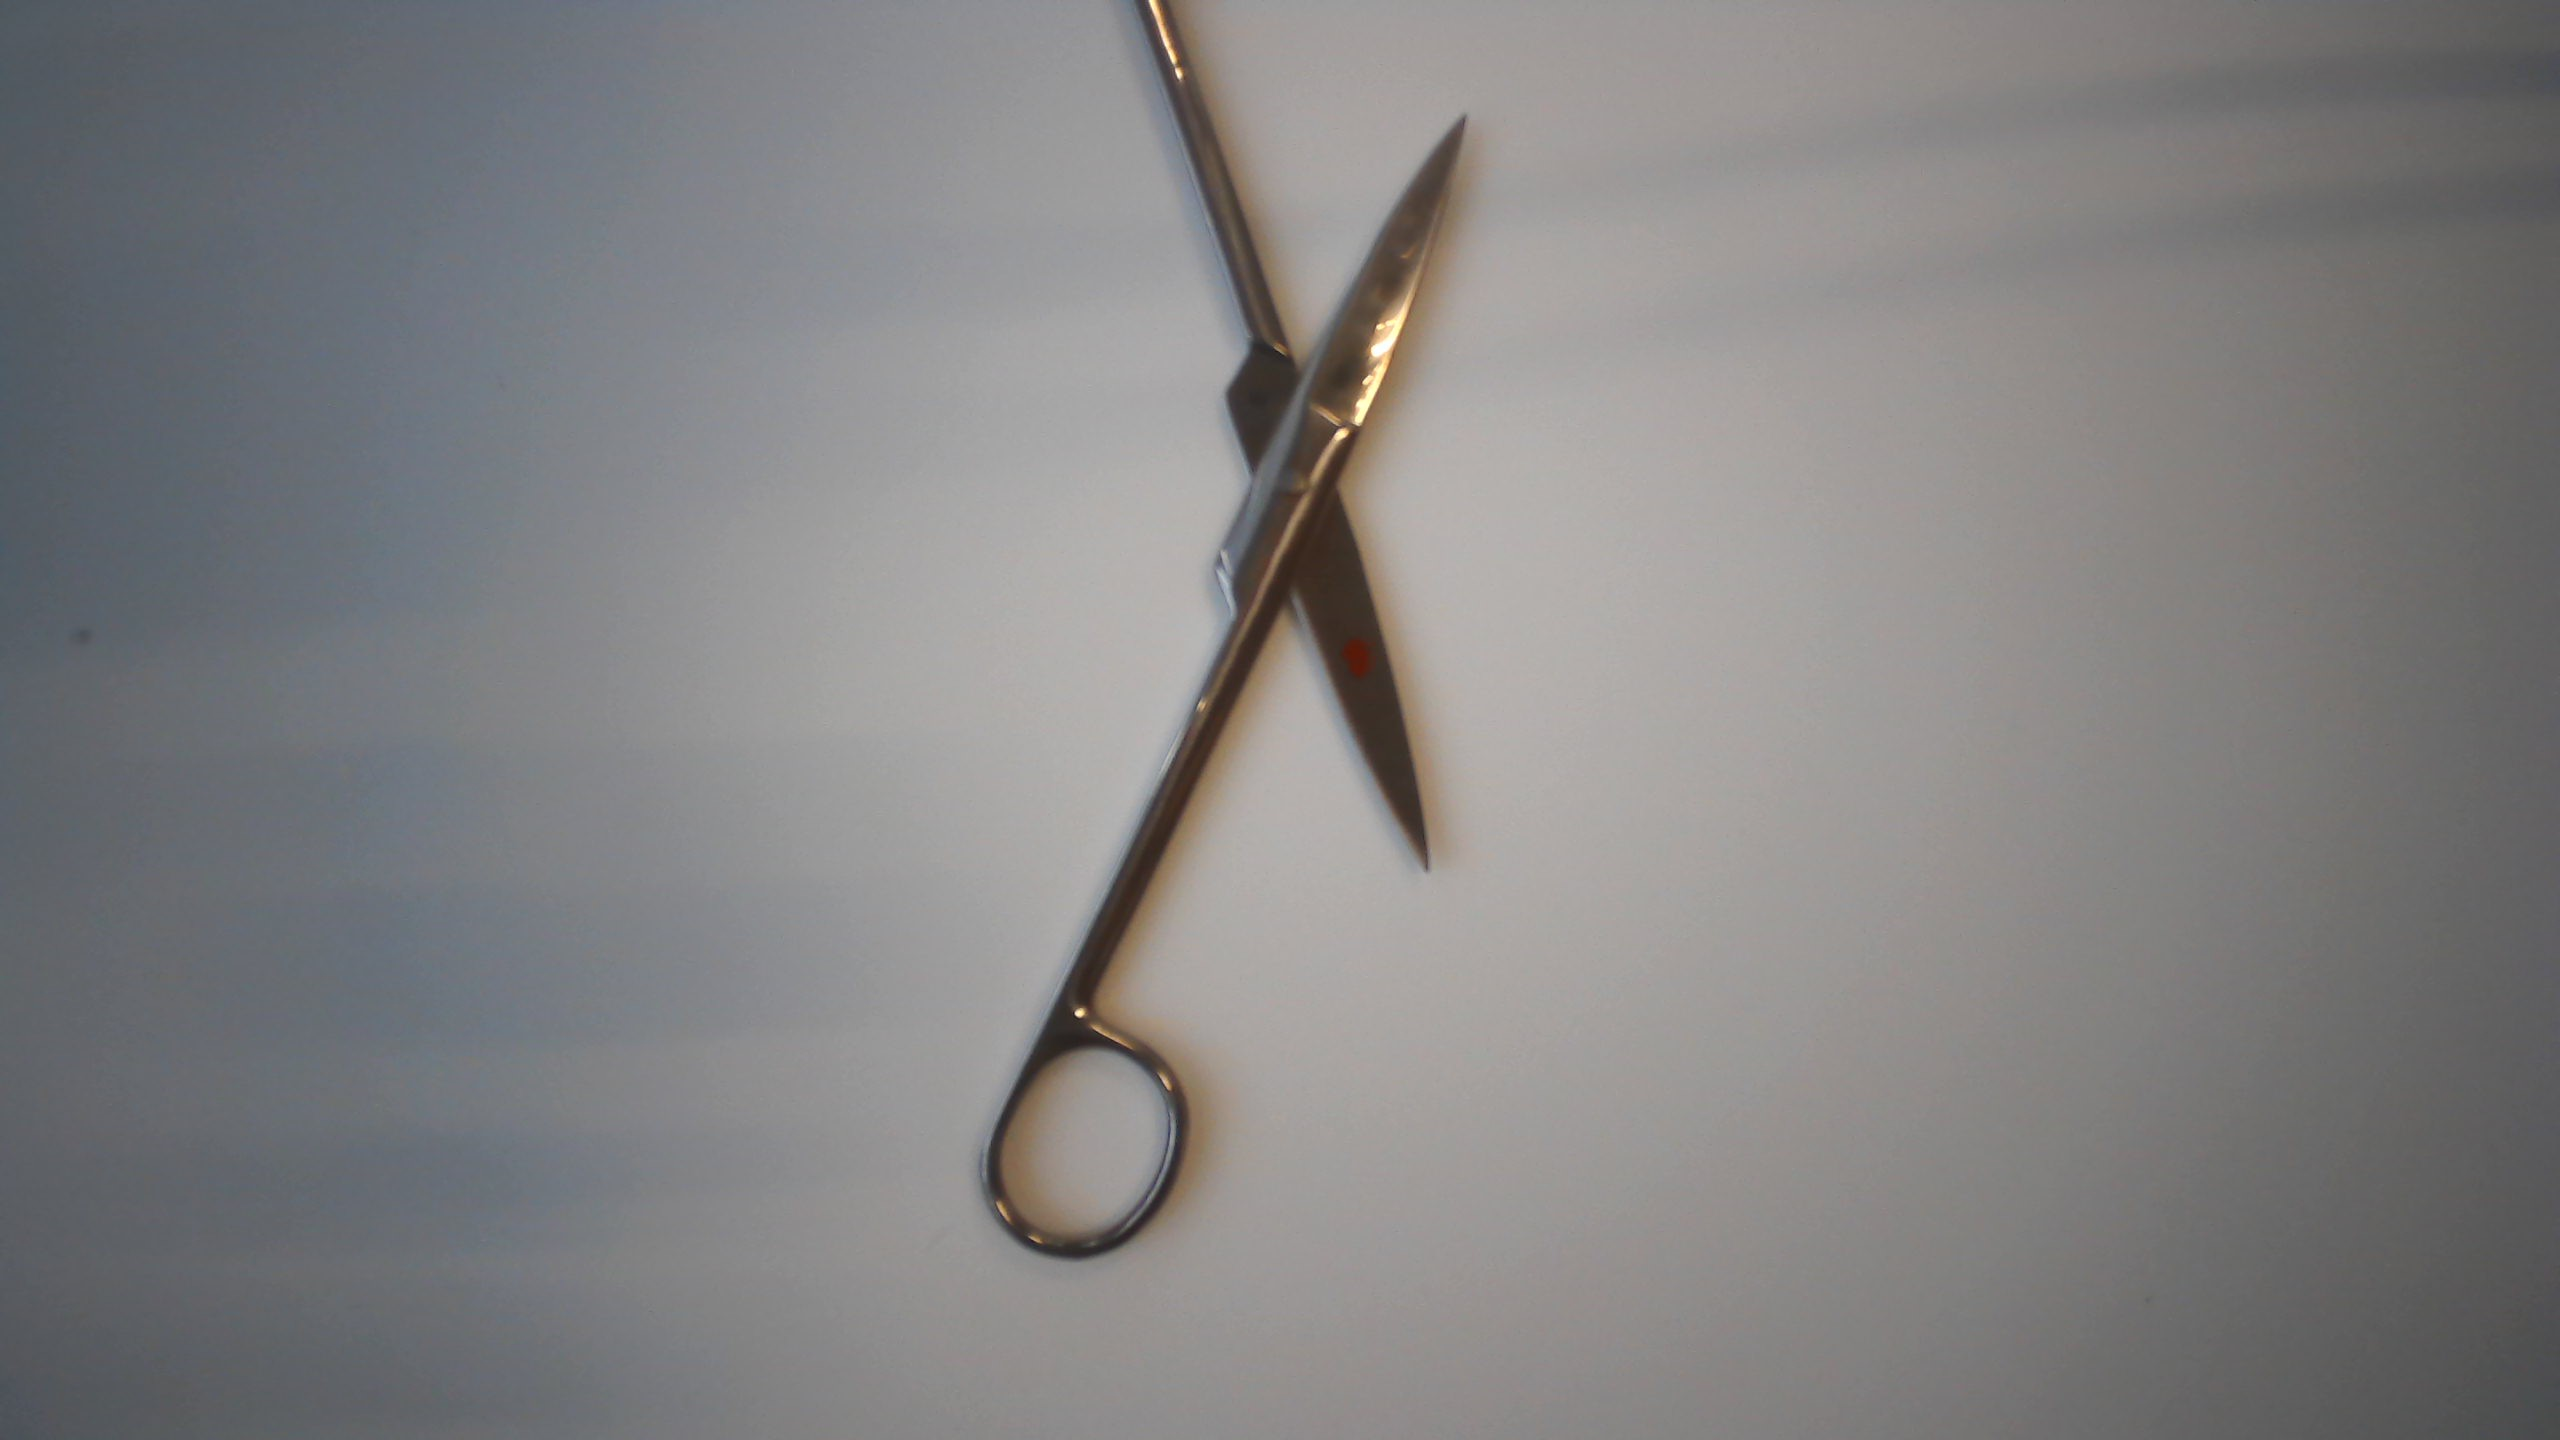Stain: (1338, 633, 1375, 689)
